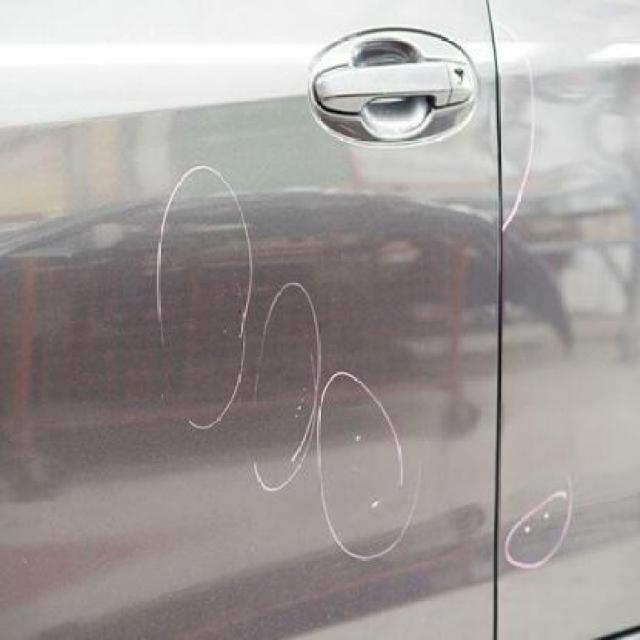scratch: (107, 152, 457, 583), (475, 10, 580, 249), (498, 470, 590, 582)
